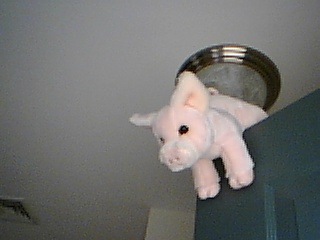piggy: (129, 70, 269, 201)
